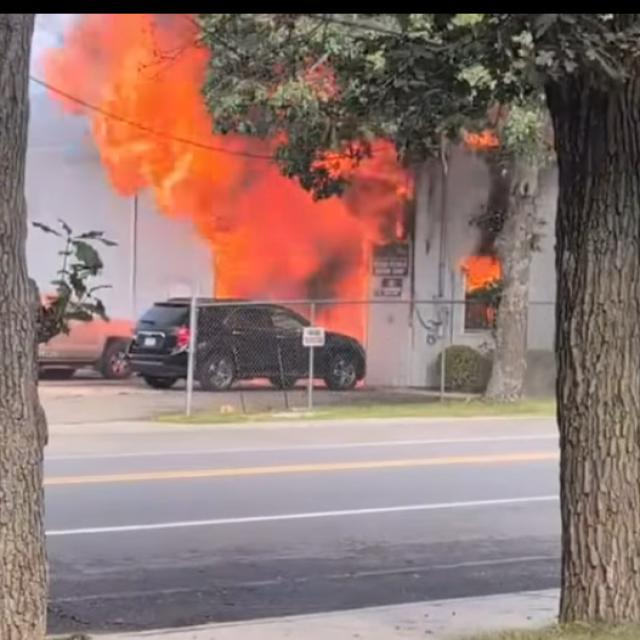fire: (259, 136, 412, 289), (42, 14, 210, 131), (87, 129, 261, 223), (193, 223, 268, 300), (271, 288, 366, 348), (460, 253, 503, 294)
